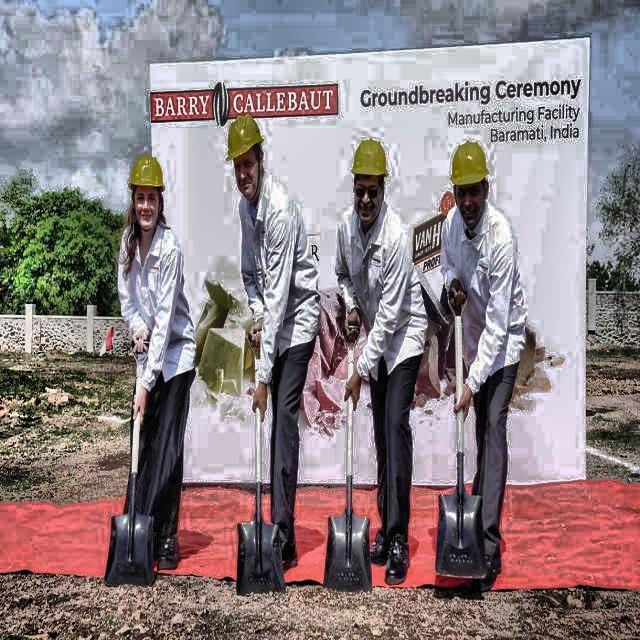person: (218, 103, 321, 564), (112, 142, 206, 600), (335, 134, 427, 582), (438, 138, 524, 590)
